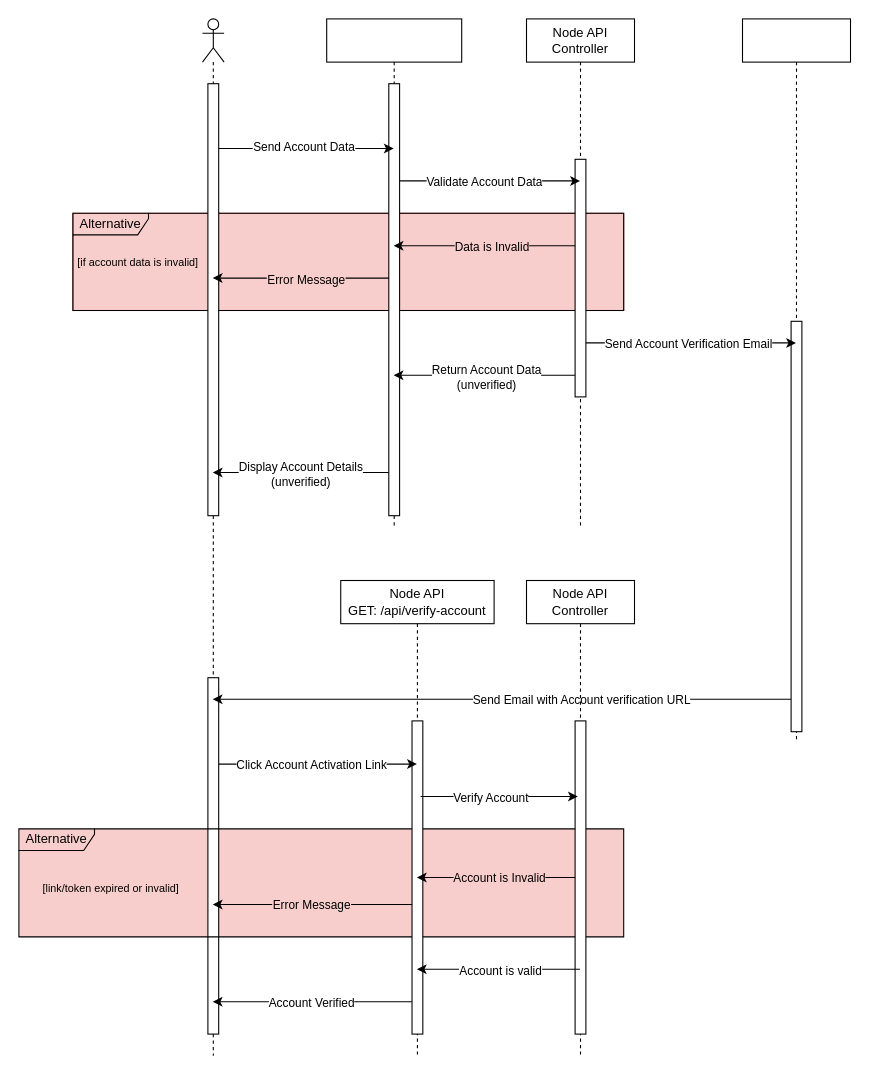
This 869x1075 diagram has some shape labels left out. Each missing label, with the box of its shape:
EmailService: (741, 18, 850, 742)
Node API POST: /api/signup: (326, 18, 462, 526)
